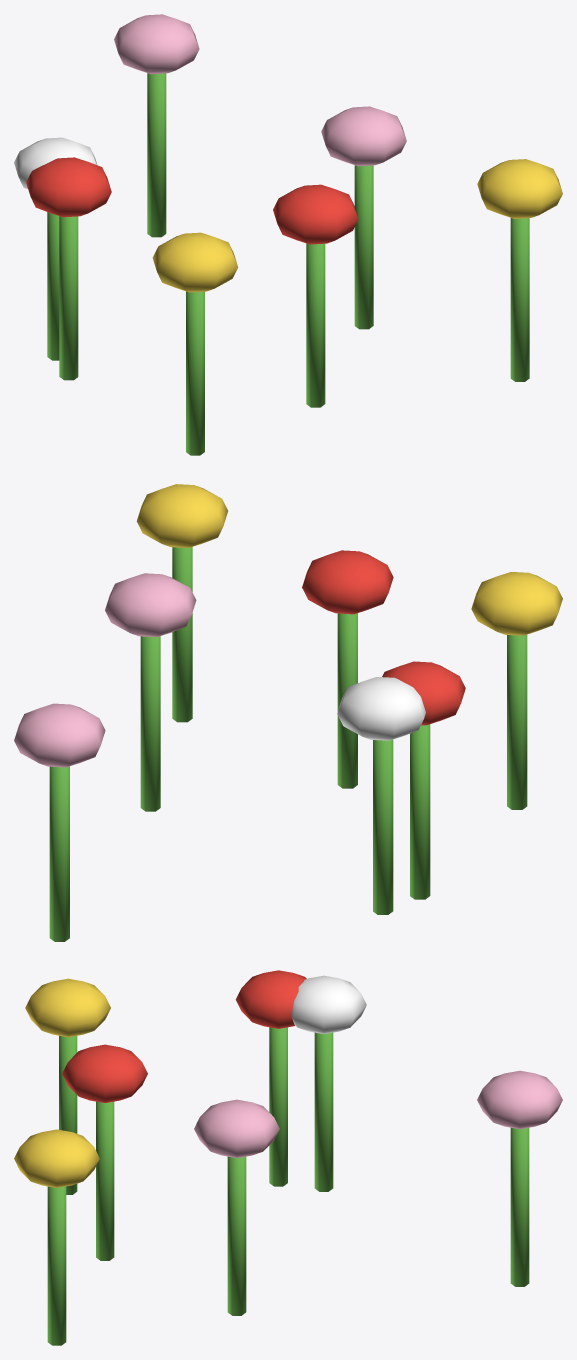
Rendered from flowers.glb.
The picture shows the model from 3 angles, top to bottom: view 1: azimuth 30°, elevation 25°; view 2: azimuth 150°, elevation 25°; view 3: azimuth 270°, elevation 25°; orthographic projection. The views are drawn at different scales.
Visible parts, largest first — view 1: FlowerMesh; view 2: FlowerMesh; view 3: FlowerMesh.
Boxes of the visible parts, x1,y1,x2,y2 form: FlowerMesh: [14, 14, 562, 455]; FlowerMesh: [14, 484, 562, 941]; FlowerMesh: [14, 970, 562, 1345].
Bounding box in the file's own units: 0.7534 × 0.372 × 0.8944.
